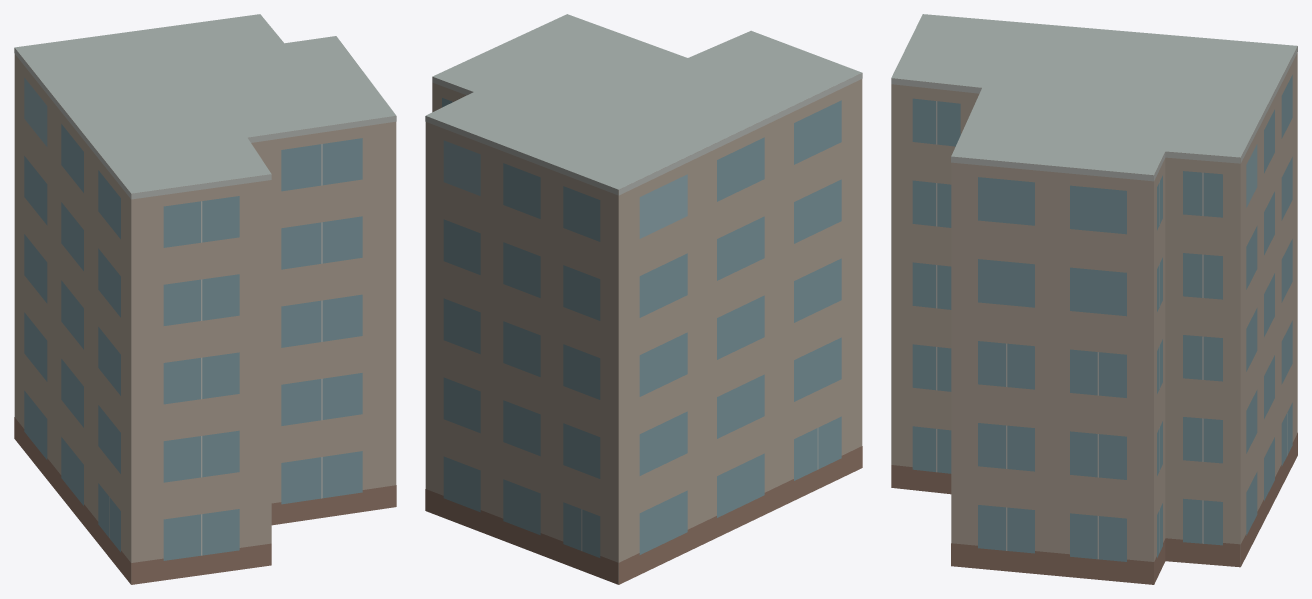
File: survey-upis-32982068.glb
3 views of the same model, side by side, from view 1: azimuth 30°, elevation 25°; view 2: azimuth 150°, elevation 25°; view 3: azimuth 270°, elevation 25° (orthographic). The views are drawn at different scales.
Parts seen in each view (by area): view 1: survey-upis-32982068.tmp; view 2: survey-upis-32982068.tmp; view 3: survey-upis-32982068.tmp.
Part boxes in pixels (x1,y1,x2,y2): survey-upis-32982068.tmp: (14, 14, 396, 584); survey-upis-32982068.tmp: (425, 14, 862, 584); survey-upis-32982068.tmp: (891, 14, 1297, 584).
Size of the model in its own units: 13.77 by 16.3 by 14.67.
